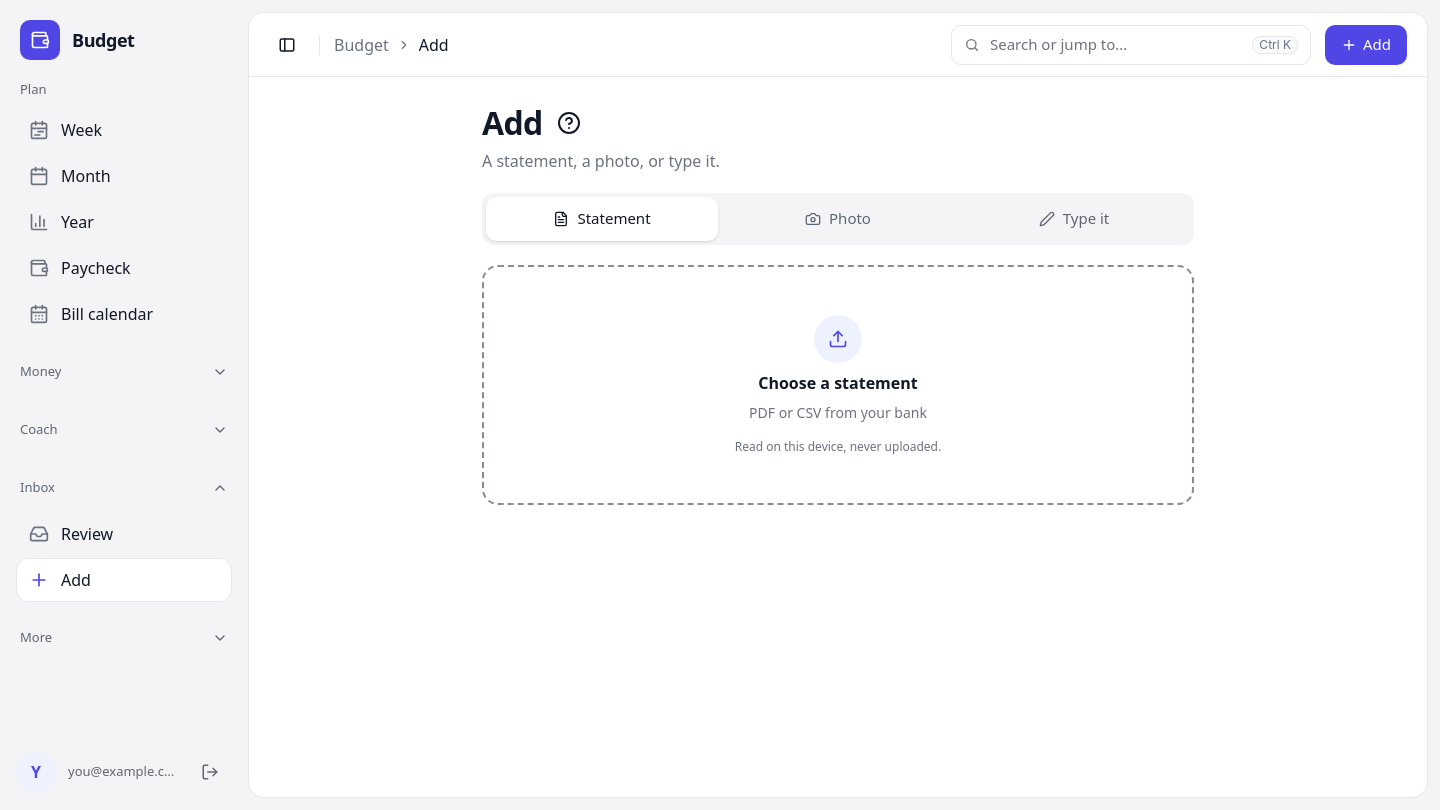
it: the ? beside every screen’s title › on /add opens its article in a sheet, with Show me for the whole of it
Check: the heading "Add" is shown, box [482,103,543,143]
Click the button named "Help with this screen" at x=569, y=123, box [547,101,591,145]
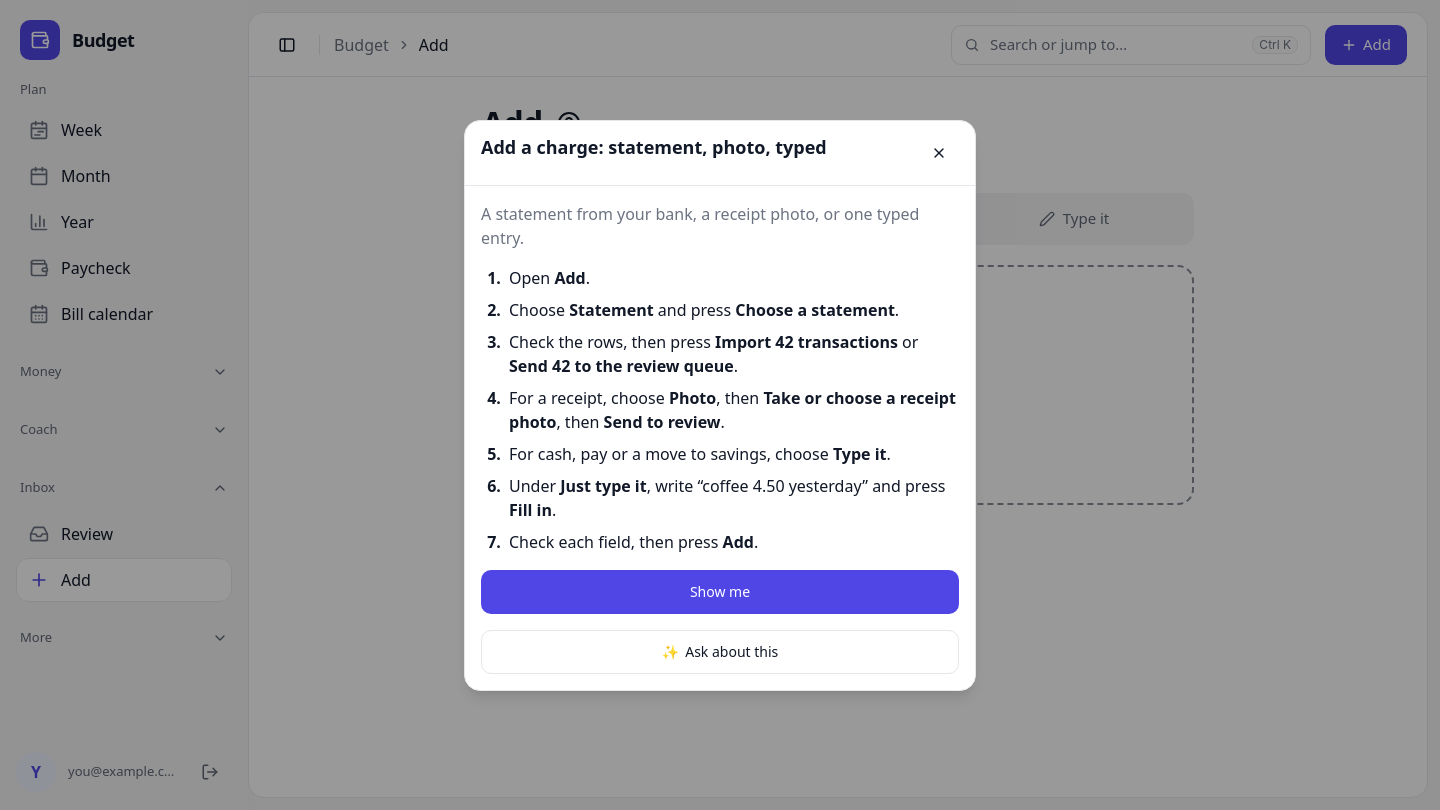
Check: the heading "Add a charge: statement, photo, typed" is shown, box [481,134,827,158]
Click the button named "Close" at x=939, y=152, box [919,132,959,172]
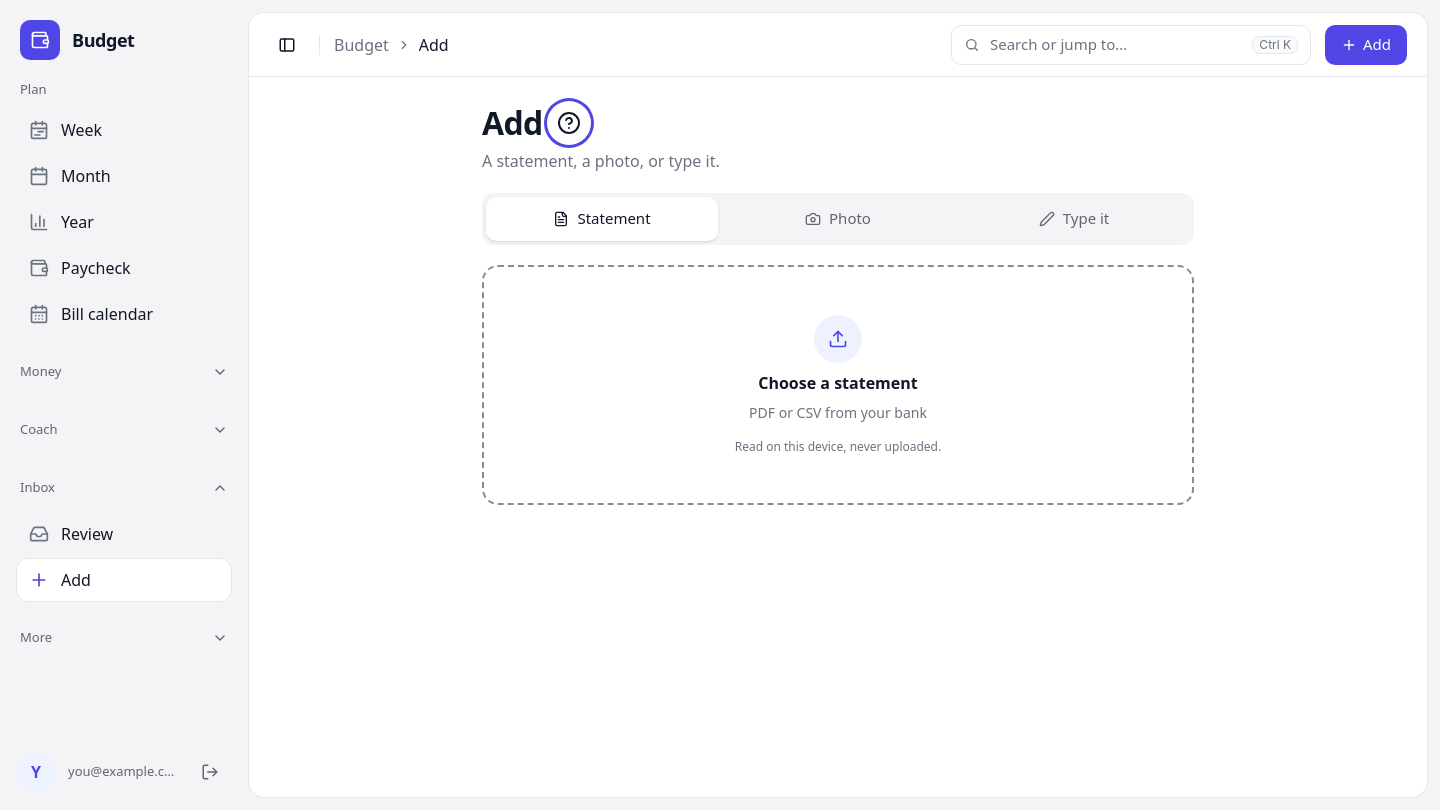
Check: the dialog is gone
